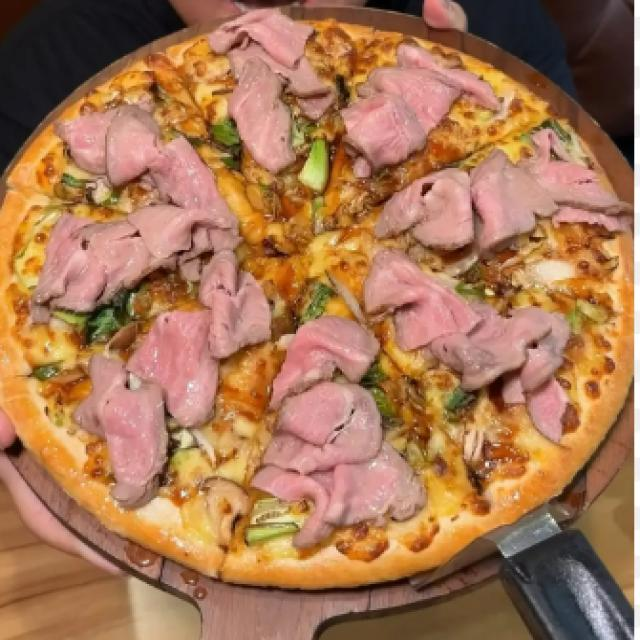shabu pizza: (59, 111, 598, 528)
